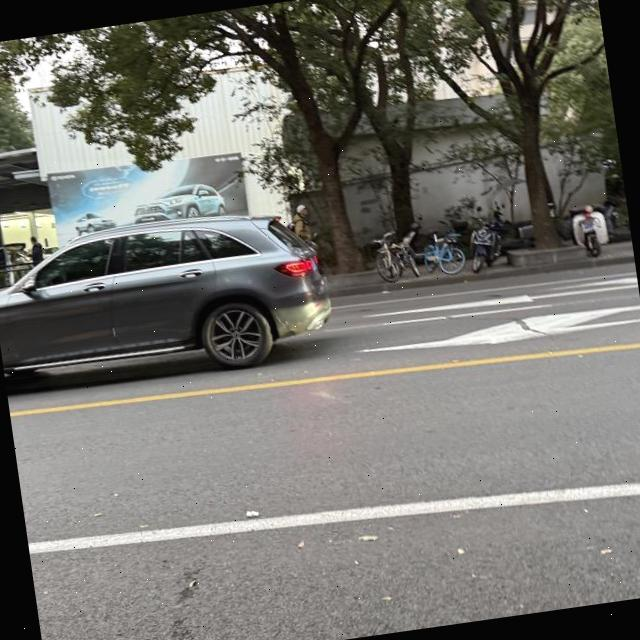curb: (333, 254, 634, 298)
